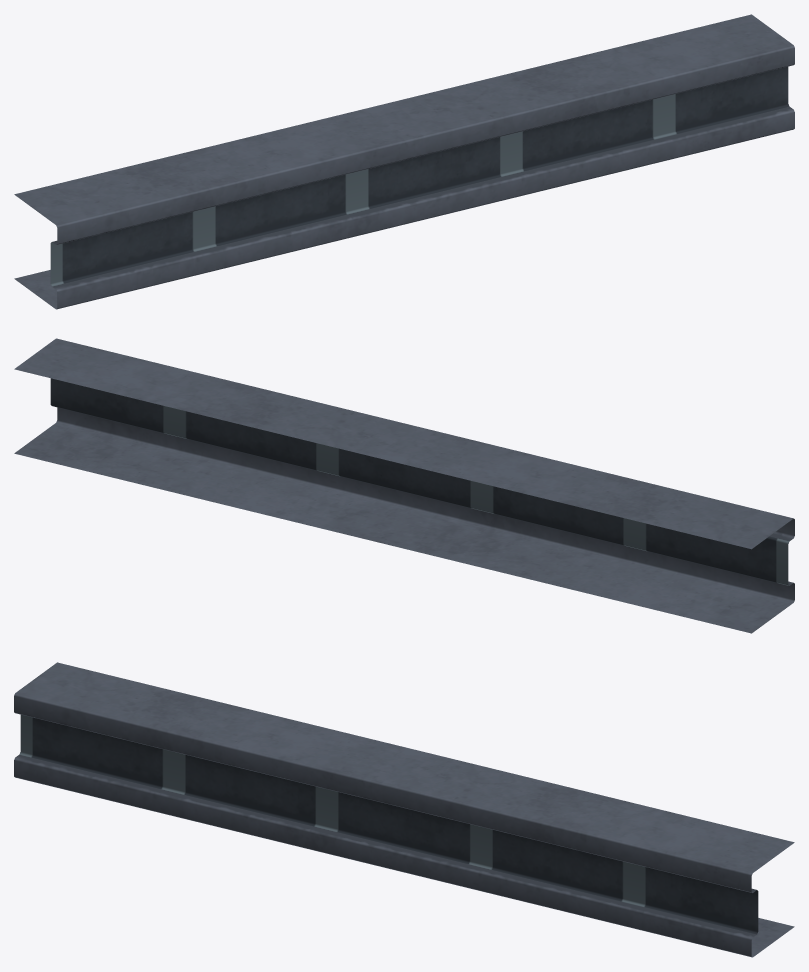
The model's file is TrimV1_Main.fbx.
3 views of the same model, one above another, from view 1: azimuth 30°, elevation 25°; view 2: azimuth 150°, elevation 25°; view 3: azimuth 330°, elevation 25° (orthographic).
Visible parts, largest first — view 1: TrimV1_Main; view 2: TrimV1_Main; view 3: TrimV1_Main.
Boxes of the visible parts, x1,y1,x2,y2 form: TrimV1_Main: (14,14,794,309); TrimV1_Main: (14,338,794,633); TrimV1_Main: (14,662,794,957).
Bounding box in the file's own units: 500 × 54.58 × 50.79.
Materials: 1 (1 with a texture image).
